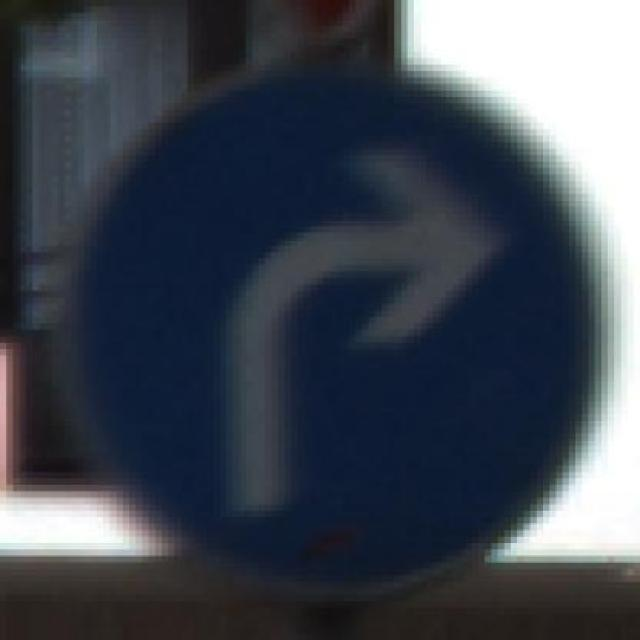Turn right ahead: (64, 71, 614, 595)
